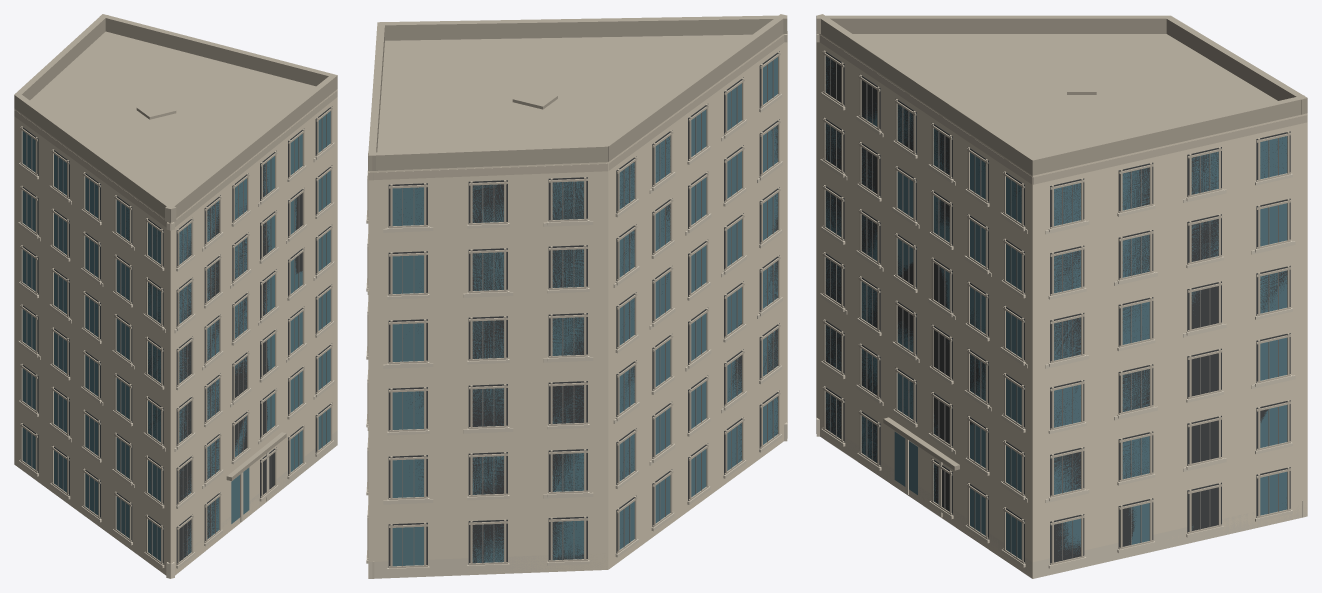
Rendered from cop_art_deco_carioca_01__way_488127741.fbx.
3 views of the same model, side by side, from view 1: azimuth 30°, elevation 25°; view 2: azimuth 150°, elevation 25°; view 3: azimuth 270°, elevation 25° (orthographic). The views are drawn at different scales.
Visible parts, largest first — view 1: cop_art_deco_carioca_01__way_488127741_wall, cop_art_deco_carioca_01__way_488127741_roof, cop_art_deco_carioca_01__way_488127741_glass, cop_art_deco_carioca_01__way_488127741_trim, cop_art_deco_carioca_01__way_488127741_shadow, cop_art_deco_carioca_01__way_488127741_stone, cop_art_deco_carioca_01__way_488127741_metal; view 2: cop_art_deco_carioca_01__way_488127741_wall, cop_art_deco_carioca_01__way_488127741_roof, cop_art_deco_carioca_01__way_488127741_glass, cop_art_deco_carioca_01__way_488127741_shadow, cop_art_deco_carioca_01__way_488127741_trim, cop_art_deco_carioca_01__way_488127741_stone, cop_art_deco_carioca_01__way_488127741_metal; view 3: cop_art_deco_carioca_01__way_488127741_wall, cop_art_deco_carioca_01__way_488127741_roof, cop_art_deco_carioca_01__way_488127741_glass, cop_art_deco_carioca_01__way_488127741_shadow, cop_art_deco_carioca_01__way_488127741_trim, cop_art_deco_carioca_01__way_488127741_stone, cop_art_deco_carioca_01__way_488127741_metal.
Part boxes in pixels (x1=…): cop_art_deco_carioca_01__way_488127741_wall: x1=14, y1=89, x2=337, y2=578; cop_art_deco_carioca_01__way_488127741_roof: x1=14, y1=14, x2=337, y2=480; cop_art_deco_carioca_01__way_488127741_glass: x1=22, y1=111, x2=330, y2=561; cop_art_deco_carioca_01__way_488127741_trim: x1=14, y1=90, x2=337, y2=565; cop_art_deco_carioca_01__way_488127741_shadow: x1=21, y1=106, x2=332, y2=564; cop_art_deco_carioca_01__way_488127741_stone: x1=14, y1=142, x2=337, y2=578; cop_art_deco_carioca_01__way_488127741_metal: x1=26, y1=114, x2=326, y2=559; cop_art_deco_carioca_01__way_488127741_wall: x1=368, y1=31, x2=787, y2=578; cop_art_deco_carioca_01__way_488127741_roof: x1=368, y1=14, x2=787, y2=170; cop_art_deco_carioca_01__way_488127741_glass: x1=392, y1=57, x2=777, y2=566; cop_art_deco_carioca_01__way_488127741_shadow: x1=388, y1=51, x2=779, y2=567; cop_art_deco_carioca_01__way_488127741_trim: x1=367, y1=34, x2=787, y2=568; cop_art_deco_carioca_01__way_488127741_stone: x1=366, y1=94, x2=787, y2=578; cop_art_deco_carioca_01__way_488127741_metal: x1=402, y1=60, x2=773, y2=566; cop_art_deco_carioca_01__way_488127741_wall: x1=816, y1=31, x2=1307, y2=578; cop_art_deco_carioca_01__way_488127741_roof: x1=816, y1=14, x2=1307, y2=470; cop_art_deco_carioca_01__way_488127741_glass: x1=825, y1=56, x2=1287, y2=559; cop_art_deco_carioca_01__way_488127741_shadow: x1=823, y1=50, x2=1290, y2=564; cop_art_deco_carioca_01__way_488127741_trim: x1=816, y1=33, x2=1307, y2=565; cop_art_deco_carioca_01__way_488127741_stone: x1=816, y1=92, x2=1307, y2=578; cop_art_deco_carioca_01__way_488127741_metal: x1=830, y1=59, x2=1278, y2=560.
Bounding box in the file's own units: 1403 × 1869 × 1989.
